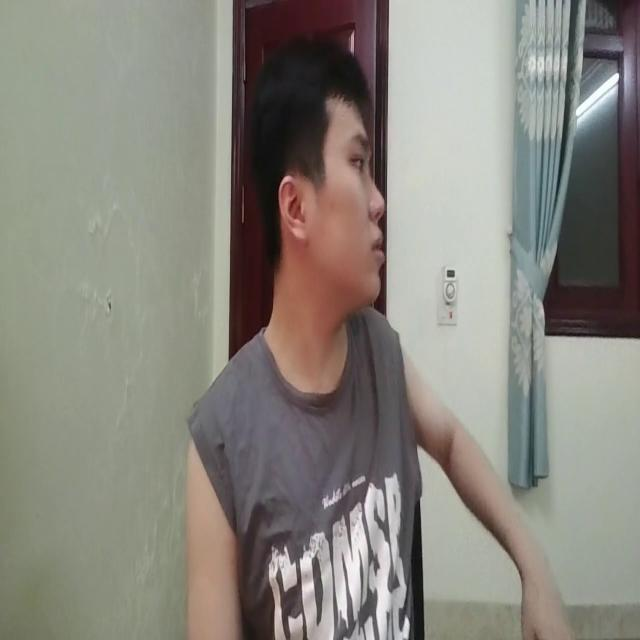student: (172, 44, 564, 640)
